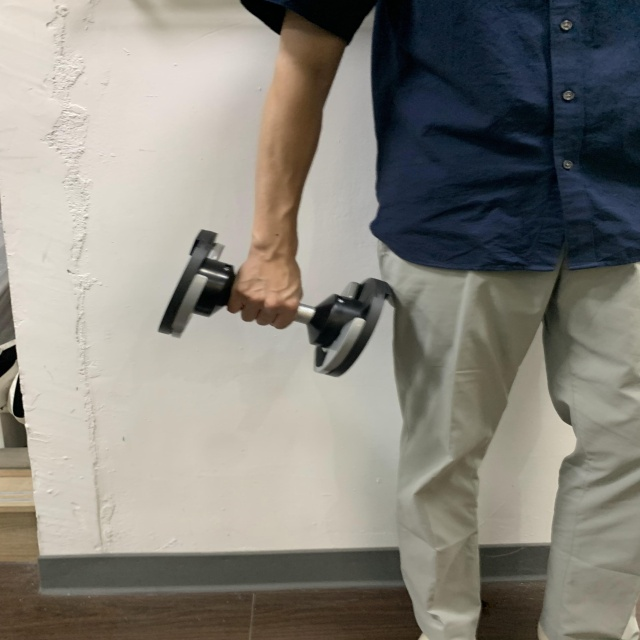02-4kg: (156, 225, 394, 381)
